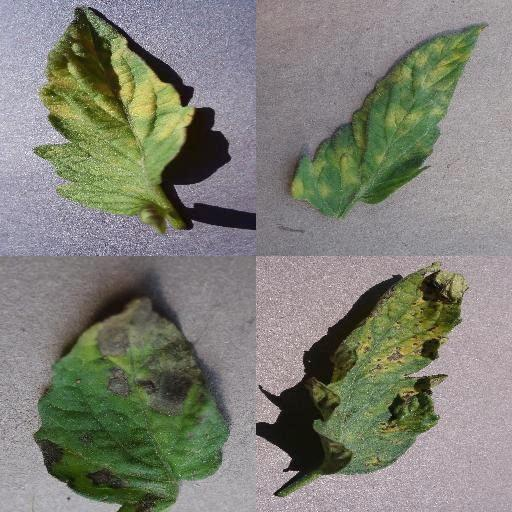Early Blight: (33, 296, 229, 512)
Leaf Mold: (291, 23, 489, 221), (34, 5, 196, 215)
Septoria: (313, 261, 470, 475)
